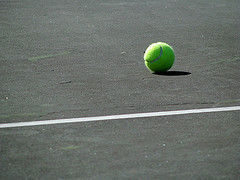tennis ball: (143, 40, 176, 74)
